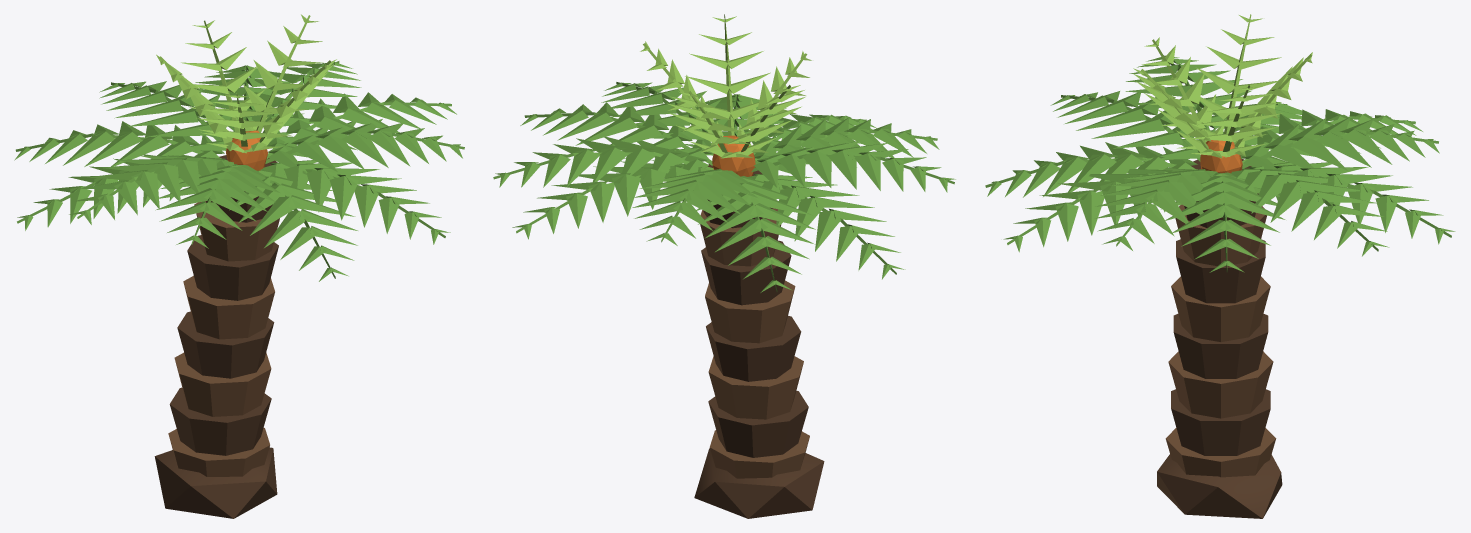
File: tree-cycad.glb
3 renders of one model, left to right at view 1: azimuth 30°, elevation 25°; view 2: azimuth 150°, elevation 25°; view 3: azimuth 270°, elevation 25°, orthographic. The views are drawn at different scales.
Parts seen in each view (by area): view 1: TreeCycad_Fronds, TreeCycad_BarkDark, TreeCycad_Bark, TreeCycad_FrondsLight, TreeCycad_Cone; view 2: TreeCycad_Fronds, TreeCycad_BarkDark, TreeCycad_Bark, TreeCycad_FrondsLight, TreeCycad_Cone; view 3: TreeCycad_Fronds, TreeCycad_BarkDark, TreeCycad_Bark, TreeCycad_FrondsLight, TreeCycad_Cone.
Boxes of the visible parts, x1,y1,x2,y2 form: TreeCycad_Fronds: [14, 61, 464, 281]; TreeCycad_BarkDark: [154, 155, 278, 518]; TreeCycad_Bark: [168, 201, 279, 476]; TreeCycad_FrondsLight: [156, 14, 336, 153]; TreeCycad_Cone: [226, 130, 267, 170]; TreeCycad_Fronds: [493, 82, 955, 292]; TreeCycad_BarkDark: [694, 164, 824, 518]; TreeCycad_Bark: [700, 208, 809, 478]; TreeCycad_FrondsLight: [640, 14, 811, 158]; TreeCycad_Cone: [712, 135, 755, 176]; TreeCycad_Fronds: [985, 55, 1455, 272]; TreeCycad_BarkDark: [1157, 159, 1282, 518]; TreeCycad_Bark: [1165, 204, 1276, 477]; TreeCycad_FrondsLight: [1133, 14, 1312, 158]; TreeCycad_Cone: [1200, 140, 1242, 173].
Size of the model in its own units: 9.08 by 9.54 by 8.7.
